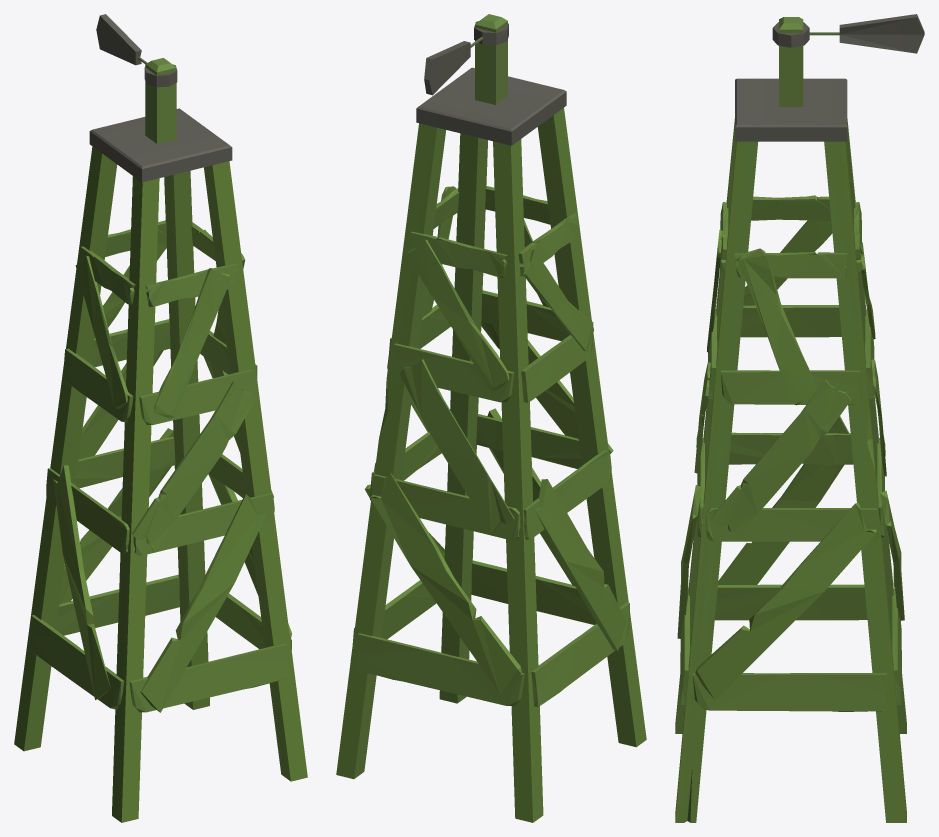
Rendered from Windmill_01.fbx.
The picture shows the model from 3 angles, left to right: view 1: azimuth 30°, elevation 25°; view 2: azimuth 150°, elevation 25°; view 3: azimuth 270°, elevation 25°; orthographic projection. The views are drawn at different scales.
Parts seen in each view (by area): view 1: Windmill_01; view 2: Windmill_01; view 3: Windmill_01.
Boxes of the visible parts, x1,y1,x2,y2 form: Windmill_01: (14,14,307,822); Windmill_01: (336,14,646,822); Windmill_01: (675,14,924,822).
Bounding box in the file's own units: 1.57 × 5.65 × 1.69.
